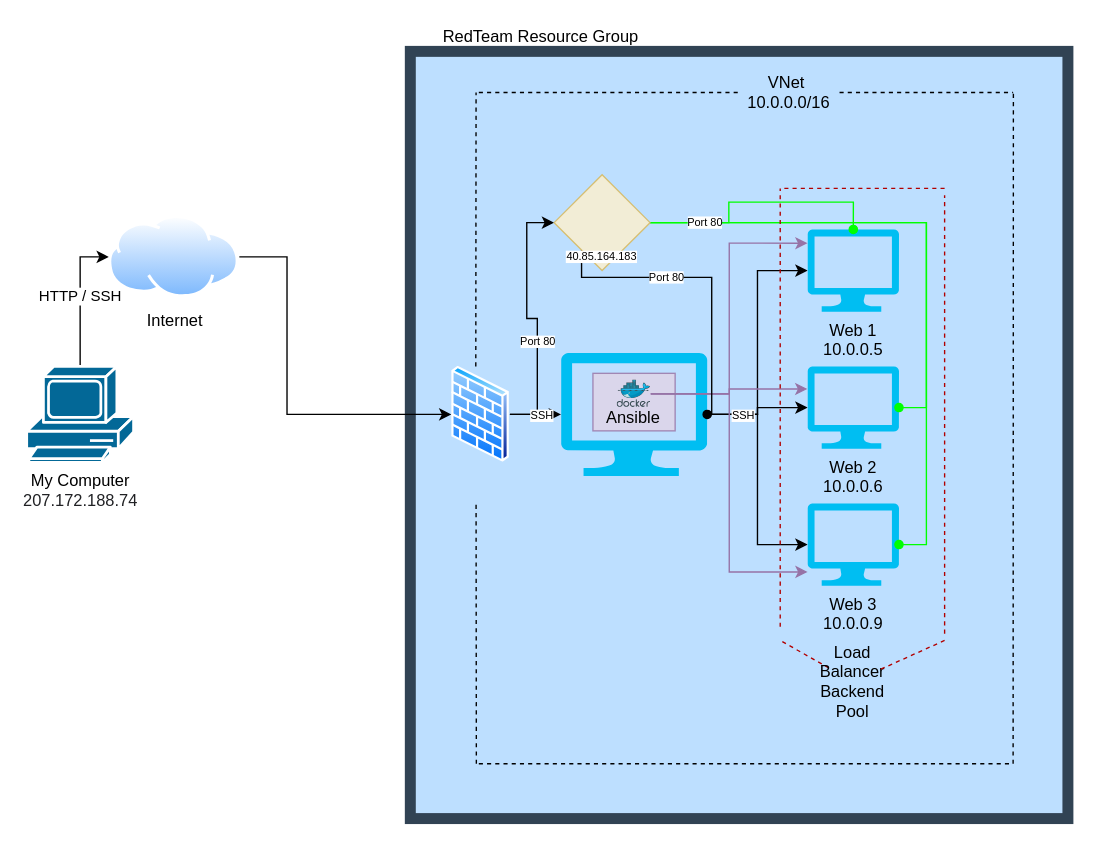
The diagram is 1097 pixels wide and 847 high, and some of its shapes have lost their labels. Each missing label, with the box of its shape:
Jump Box Provisioner Public IP when active: (560, 352, 707, 475)
Load Balancer: (553, 173, 650, 271)
VNetNSG: (451, 366, 509, 462)
